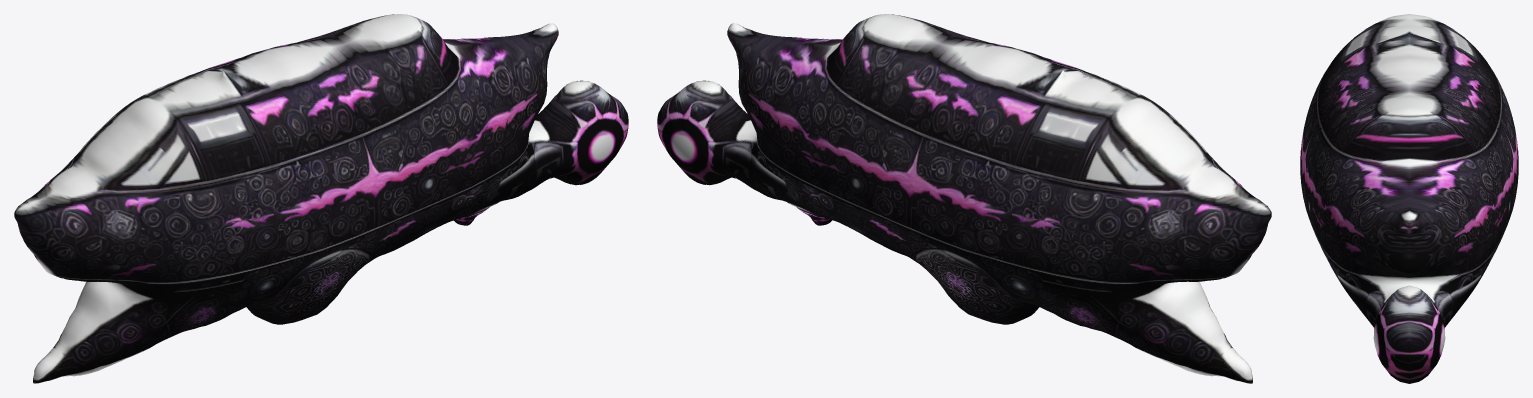
Rendered from barrier vehicle.glb.
3 views of the same model, side by side, from view 1: azimuth 30°, elevation 25°; view 2: azimuth 150°, elevation 25°; view 3: azimuth 270°, elevation 25° (orthographic). The views are drawn at different scales.
Bounding box in the file's own units: 7.36 × 3.17 × 2.42.
Materials: 1 (1 with a texture image).
